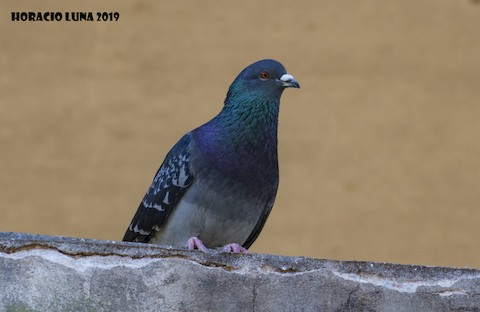pigeon: (117, 58, 311, 258)
